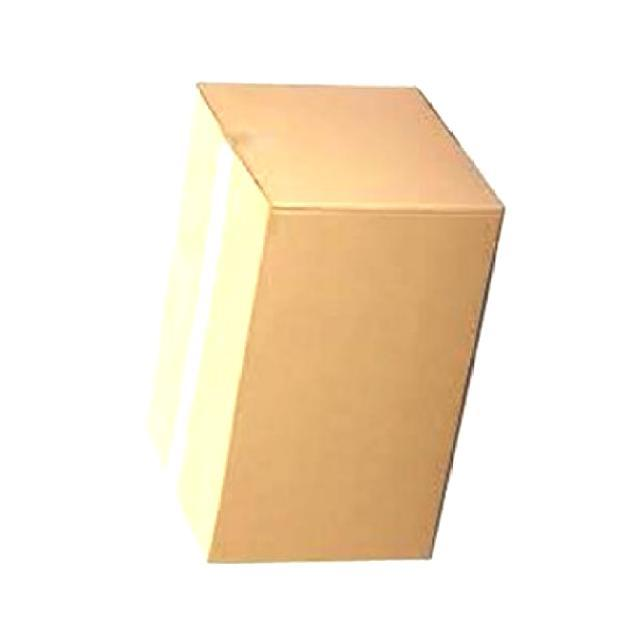box: (144, 81, 506, 562)
